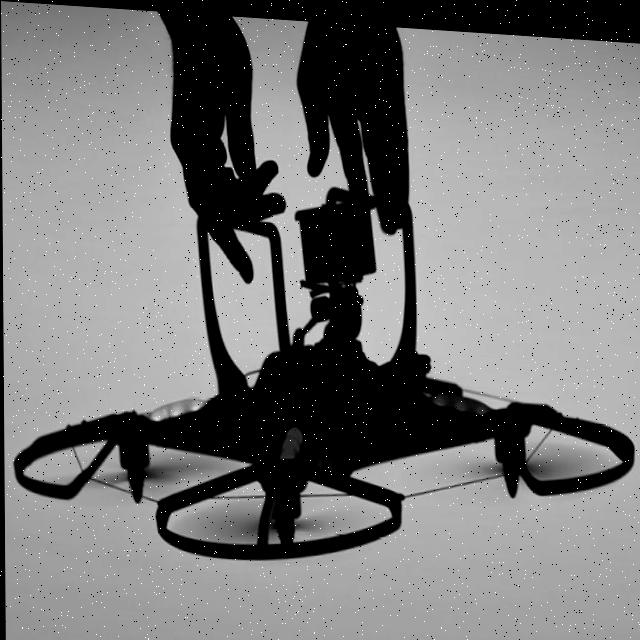drone: (4, 280, 640, 585)
